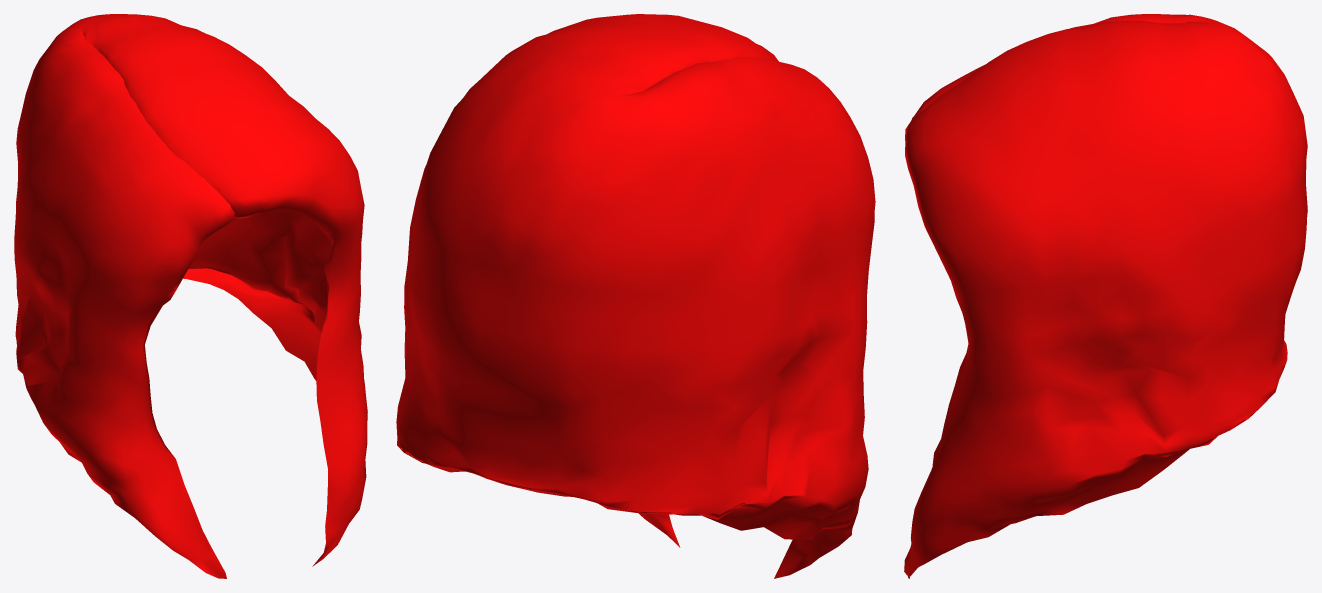
Rendered from toigo_inverted_bob_M.glb.
The picture shows the model from 3 angles, left to right: view 1: azimuth 30°, elevation 25°; view 2: azimuth 150°, elevation 25°; view 3: azimuth 270°, elevation 25°; orthographic projection. The views are drawn at different scales.
Size of the model in its own units: 0.2034 by 0.3079 by 0.2192.
1 material, 1 textured.
